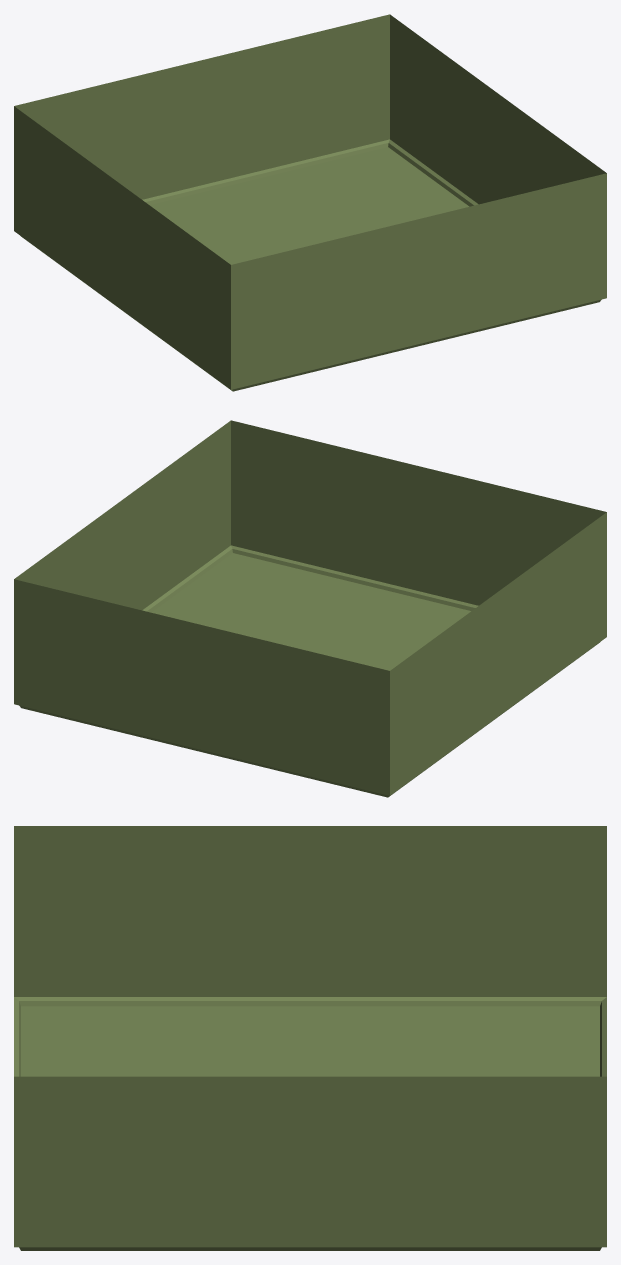
File: tile_layer_base_master_grass.glb
The picture shows the model from 3 angles, top to bottom: view 1: azimuth 30°, elevation 25°; view 2: azimuth 150°, elevation 25°; view 3: azimuth 270°, elevation 25°; orthographic projection. The views are drawn at different scales.
Parts seen in each view (by area): view 1: tile_layer_base_master_grass_body; view 2: tile_layer_base_master_grass_body; view 3: tile_layer_base_master_grass_body.
Boxes of the visible parts, x1,y1,x2,y2 form: tile_layer_base_master_grass_body: [14, 14, 606, 391]; tile_layer_base_master_grass_body: [14, 420, 606, 797]; tile_layer_base_master_grass_body: [14, 826, 606, 1250].
Bounding box in the file's own units: 1.35 × 0.445 × 1.35.
